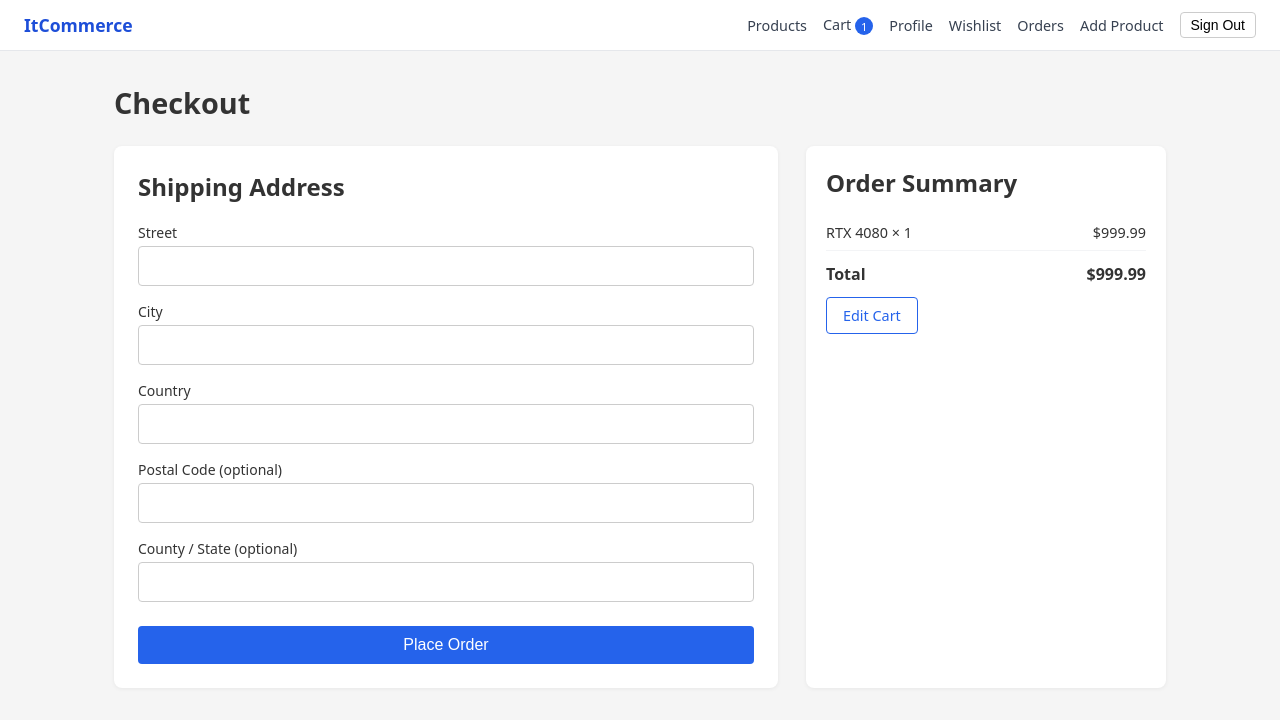
Test: Checkout — address validation › shows error message when API fails
The image size is (1280, 720).
Type "Main St 1" into the field labelled "Street".
click(446, 266); type("Main St 1")  # box [138, 246, 754, 286]
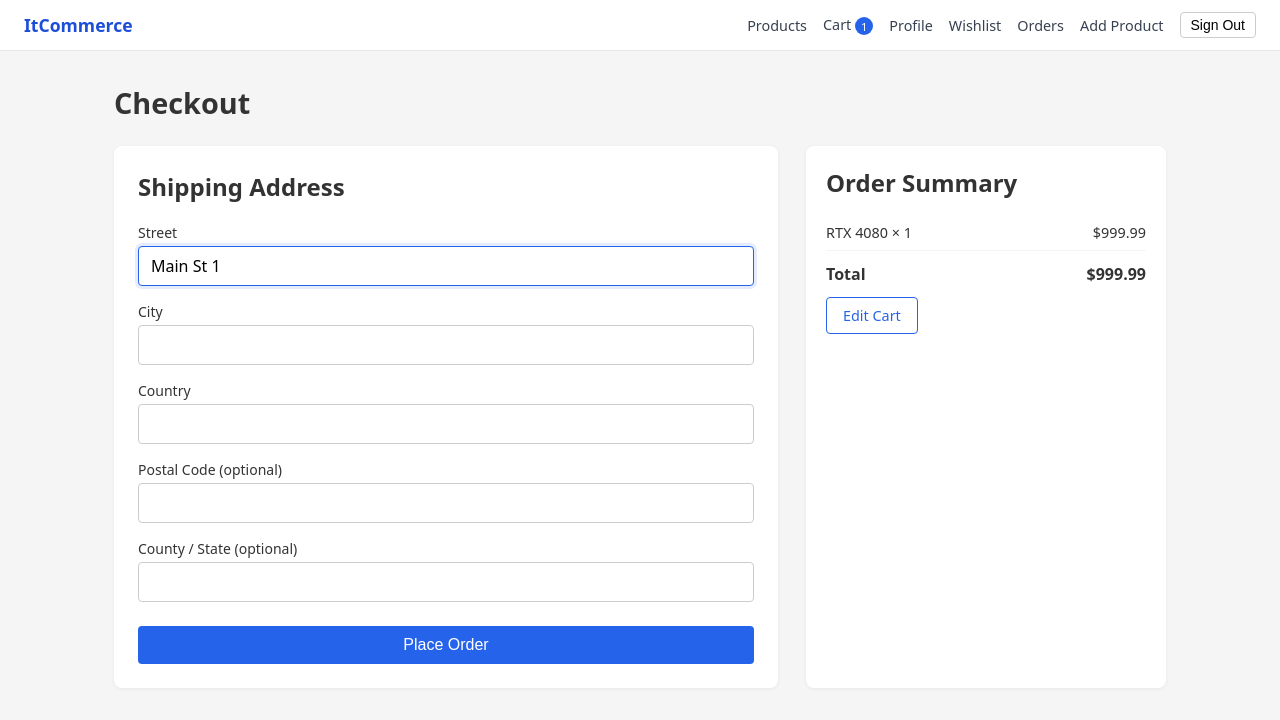
Type "Timisoara" into the field labelled "City".
click(446, 345); type("Timisoara")  # box [138, 325, 754, 365]
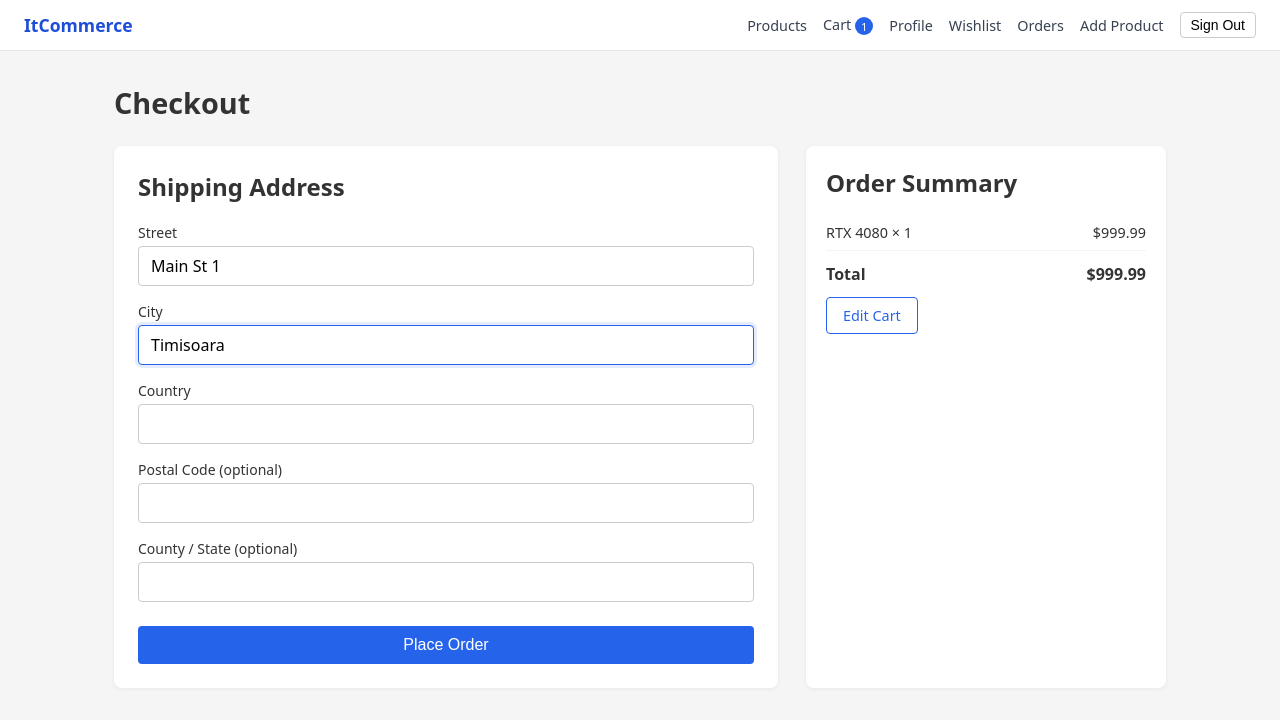
Type "Romania" into the field labelled "Country".
click(446, 424); type("Romania")  # box [138, 404, 754, 444]
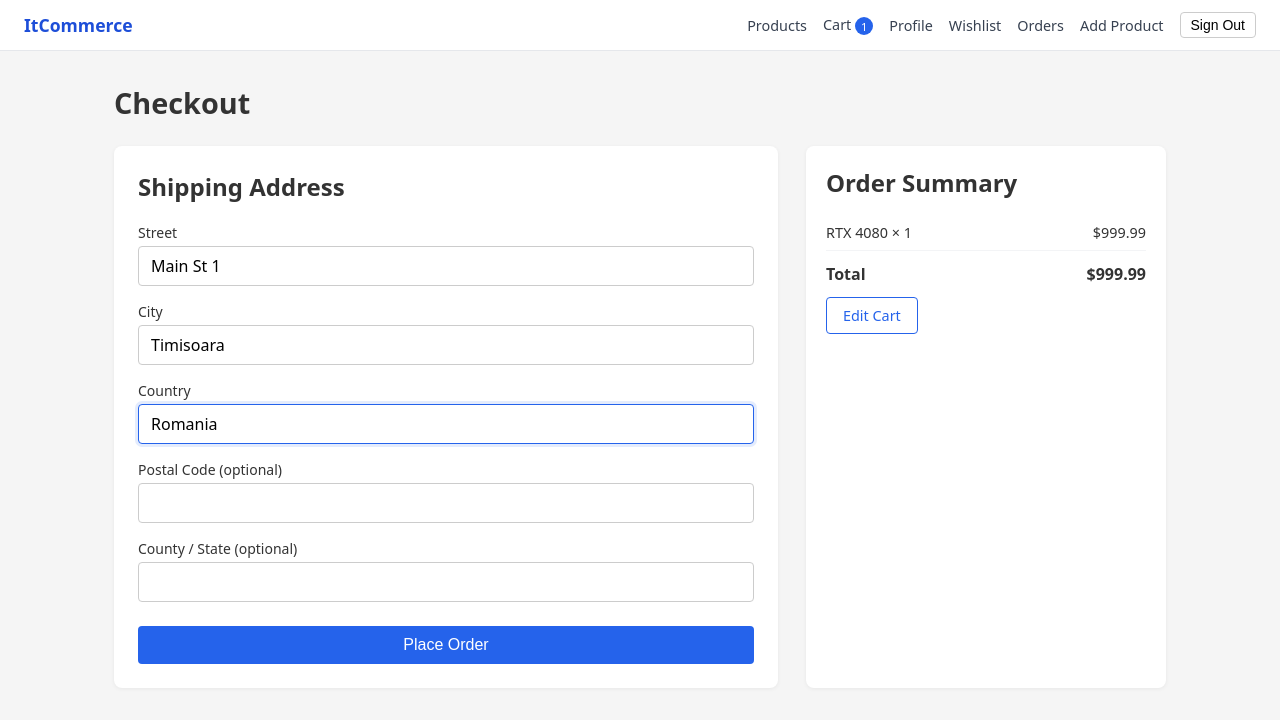
Click the button "Place Order".
click(446, 645)  # box [138, 626, 754, 664]
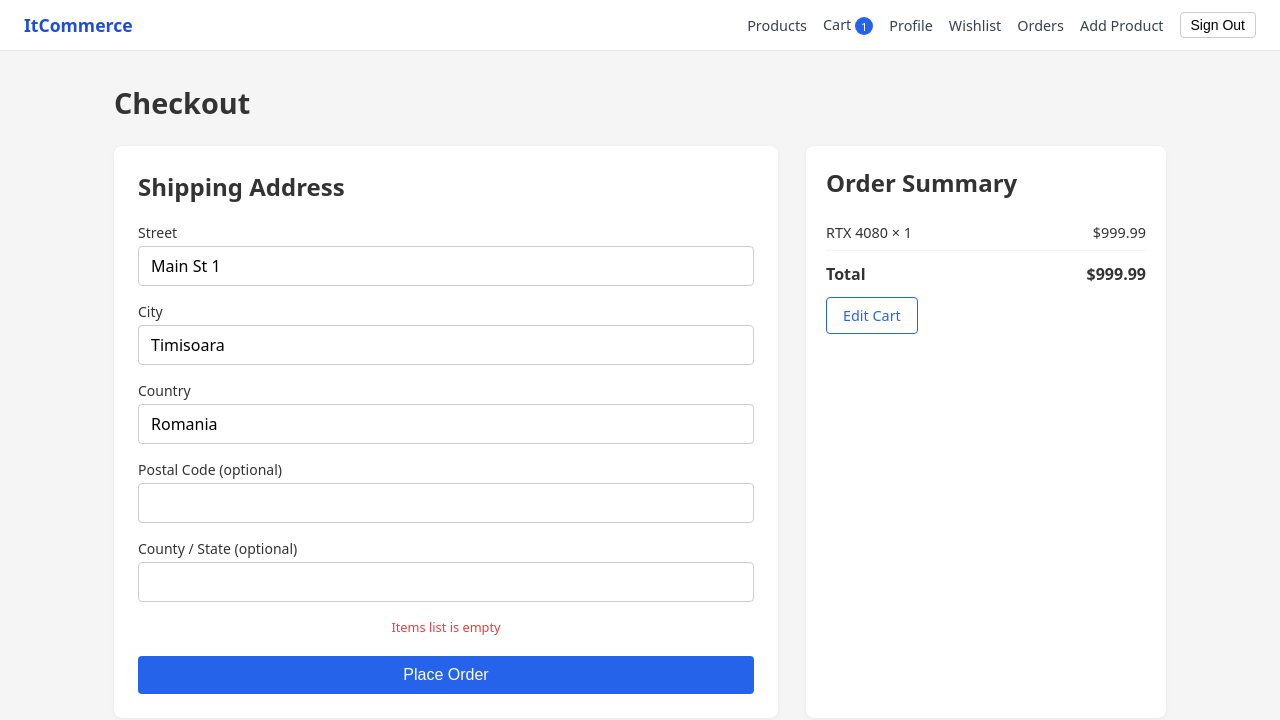
Result: the text "Items list is empty" is shown at [391, 618, 501, 636]
